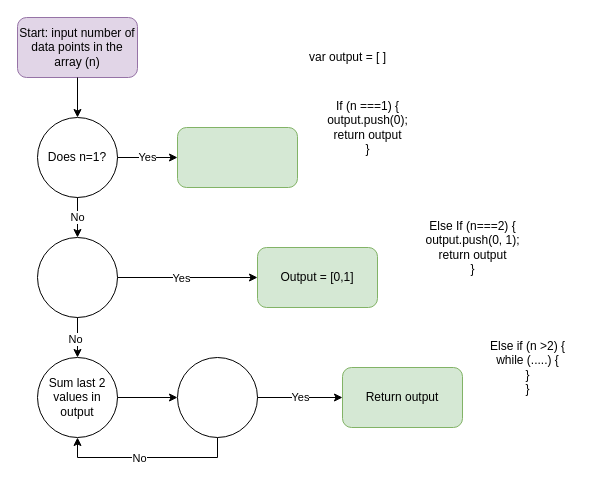
Some shapes in this 590 by 483 pixel diagram are drawn without their labels. The shapes that lost their labels are listed below. From the top down, each one's box as (x1, y1, x2, y2) in pixels, then its label:
(176, 126, 298, 188): Output = [0]
(36, 236, 118, 318): Does n = 2?
(176, 356, 258, 438): Does n = number of values in output?
